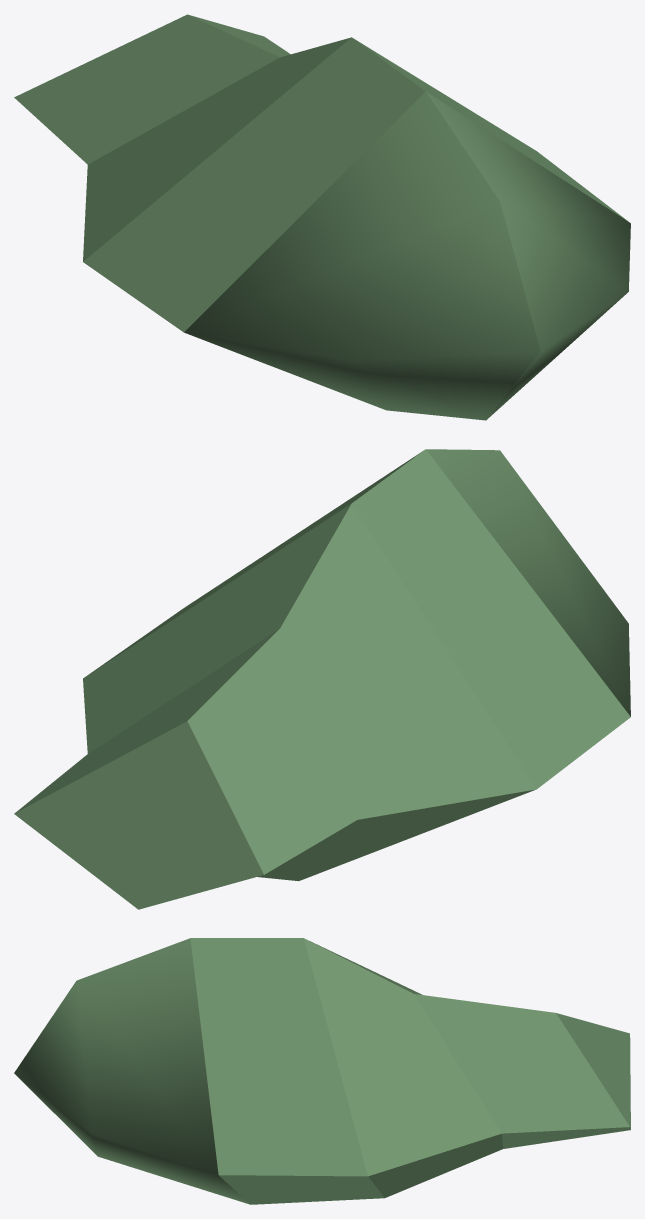
Rendered from Head.fbx.
3 renders of one model, top to bottom at view 1: azimuth 30°, elevation 25°; view 2: azimuth 150°, elevation 25°; view 3: azimuth 270°, elevation 25°, orthographic. The views are drawn at different scales.
Parts seen in each view (by area): view 1: Head; view 2: Head; view 3: Head.
Part boxes in pixels (bbox=[...]): Head: bbox=[14, 14, 630, 420]; Head: bbox=[14, 449, 630, 909]; Head: bbox=[14, 938, 630, 1204].
Bounding box in the file's own units: 0.4891 × 0.3579 × 0.7505.
